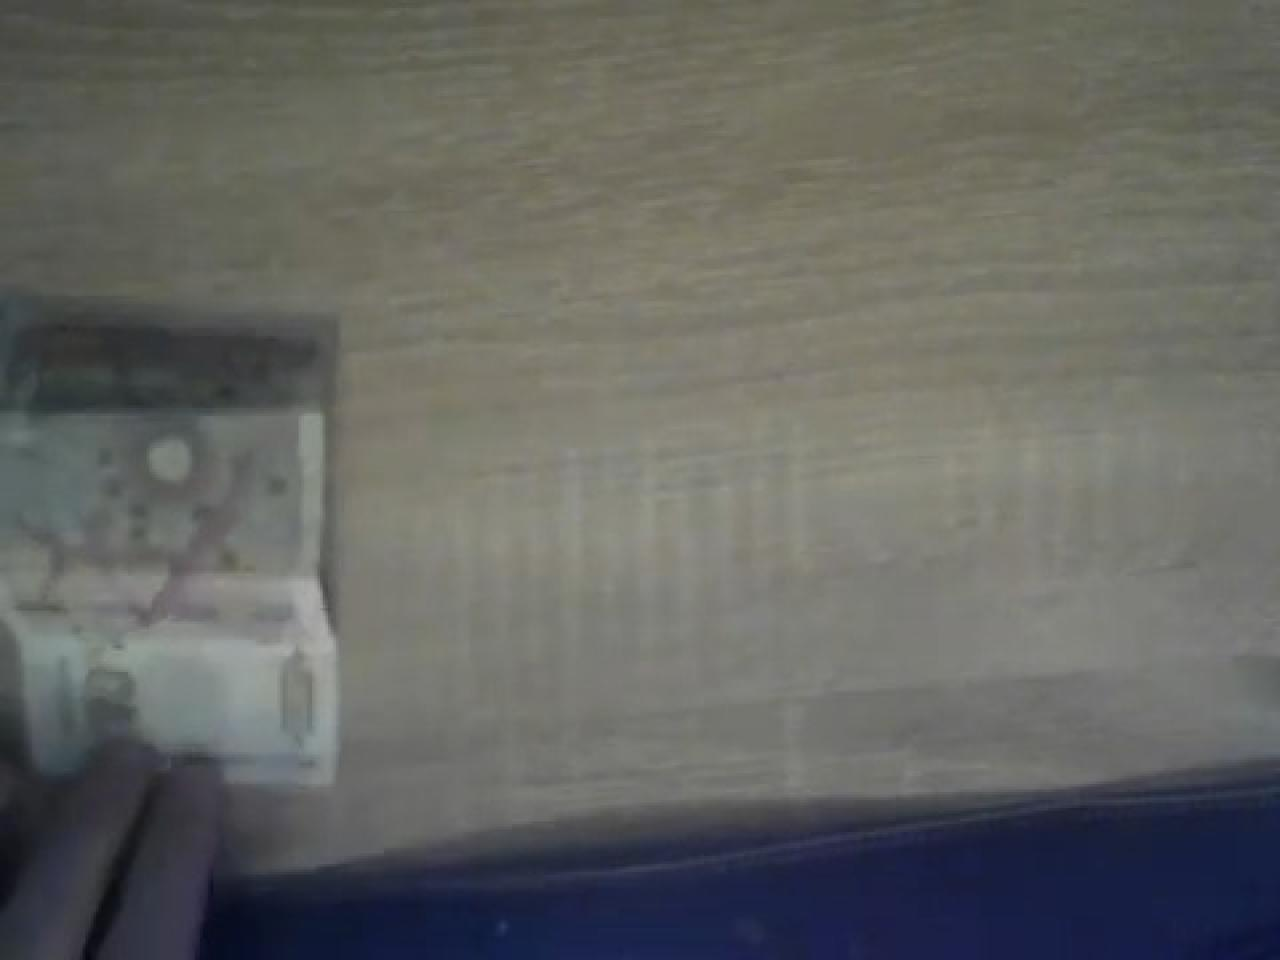10leva: (0, 326, 339, 787)
